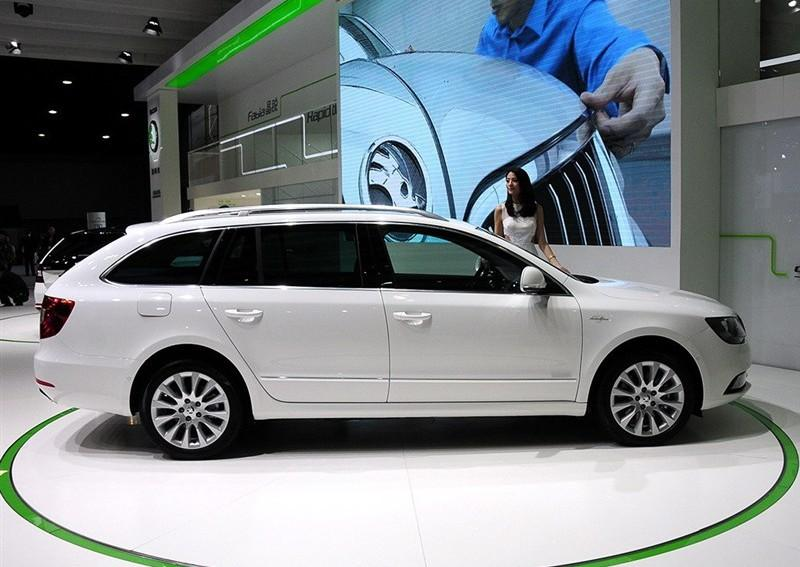Wagon: (30, 202, 754, 458)
